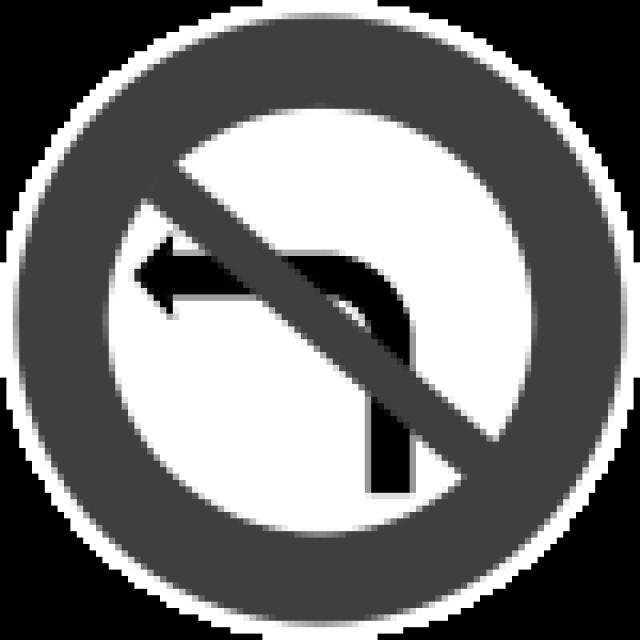direction_forbidden: (9, 1, 640, 640)
